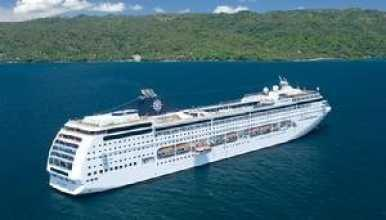youlun: (43, 75, 340, 194)
